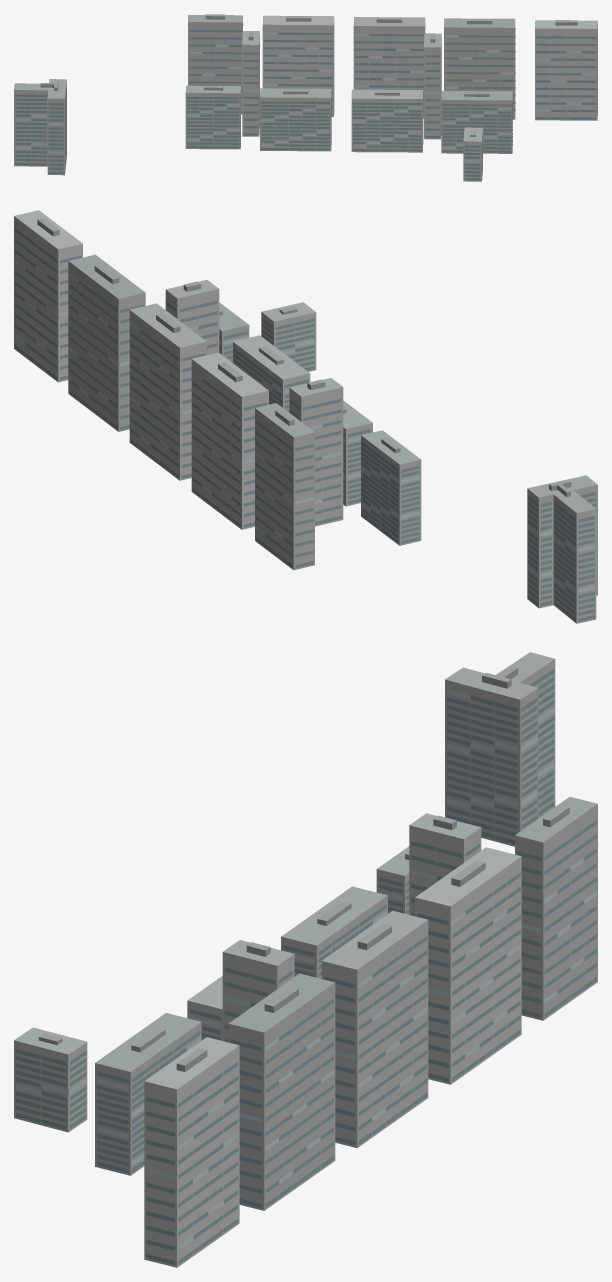
The model's file is apt-a15080507.glb.
3 views of the same model, one above another, from view 1: azimuth 30°, elevation 25°; view 2: azimuth 150°, elevation 25°; view 3: azimuth 270°, elevation 25° (orthographic). The views are drawn at different scales.
Parts seen in each view (by area): view 1: apt-a15080507; view 2: apt-a15080507; view 3: apt-a15080507.
Part boxes in pixels (bbox=[...]): apt-a15080507: bbox=[14, 14, 597, 181]; apt-a15080507: bbox=[14, 210, 597, 623]; apt-a15080507: bbox=[14, 652, 597, 1267].
Bounding box in the file's own units: 369 × 68 × 195.
